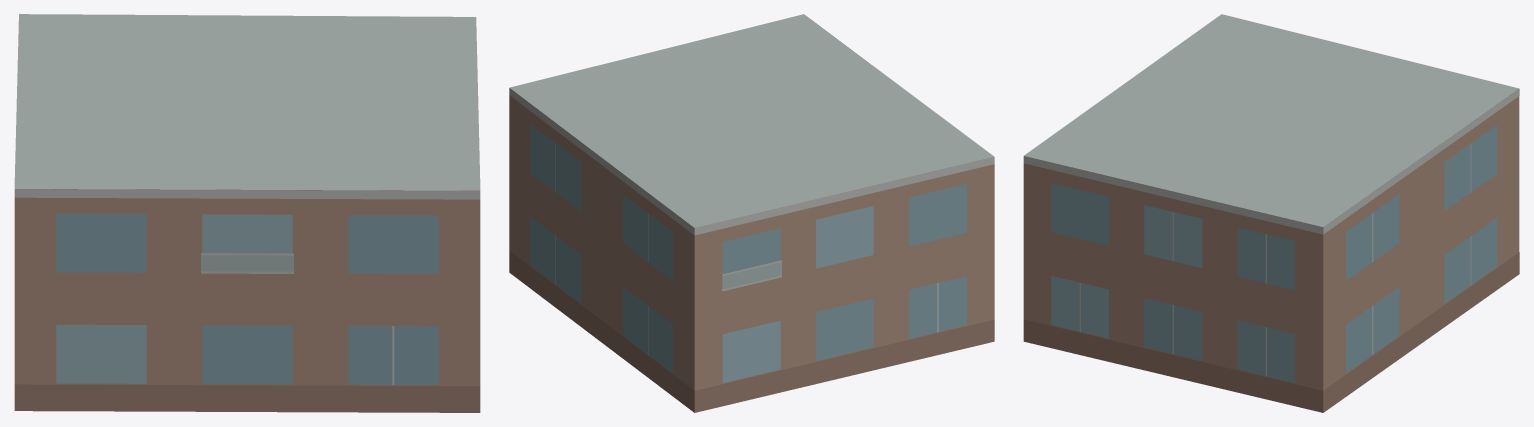
File: survey-upis-32687120.glb
The picture shows the model from 3 angles, left to right: view 1: azimuth 30°, elevation 25°; view 2: azimuth 150°, elevation 25°; view 3: azimuth 270°, elevation 25°; orthographic projection. The views are drawn at different scales.
Visible parts, largest first — view 1: survey-upis-32687120.tmp; view 2: survey-upis-32687120.tmp; view 3: survey-upis-32687120.tmp.
Boxes of the visible parts, left/top/right/bottom form: survey-upis-32687120.tmp: left=14, top=14, right=480, bottom=412; survey-upis-32687120.tmp: left=509, top=14, right=994, bottom=412; survey-upis-32687120.tmp: left=1023, top=14, right=1519, bottom=412.
Bounding box in the file's own units: 15.03 × 6.1 × 14.77.
